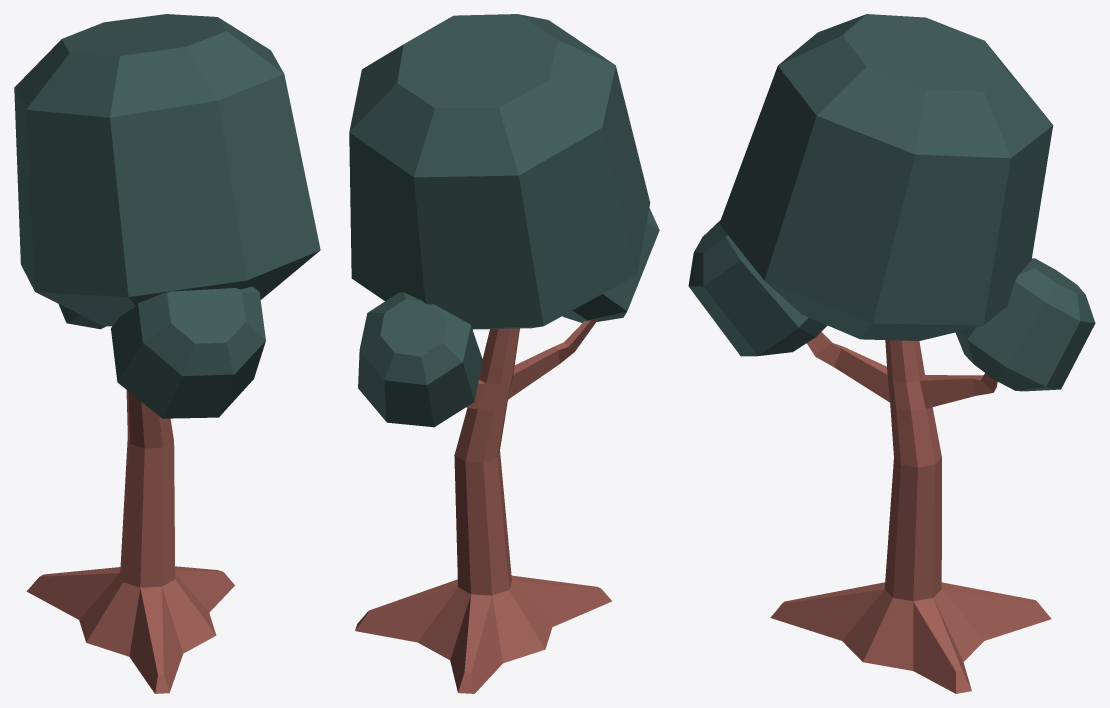
Rendered from Drvo_01.fbx.
The picture shows the model from 3 angles, left to right: view 1: azimuth 30°, elevation 25°; view 2: azimuth 150°, elevation 25°; view 3: azimuth 270°, elevation 25°; orthographic projection.
Visible parts, largest first — view 1: Drvo_01; view 2: Drvo_01; view 3: Drvo_01.
Part boxes in pixels (x1,y1,x2,y2): Drvo_01: (14,14,320,693); Drvo_01: (349,14,659,693); Drvo_01: (688,14,1095,693).
Bounding box in the file's own units: 77.62 × 165 × 100.
